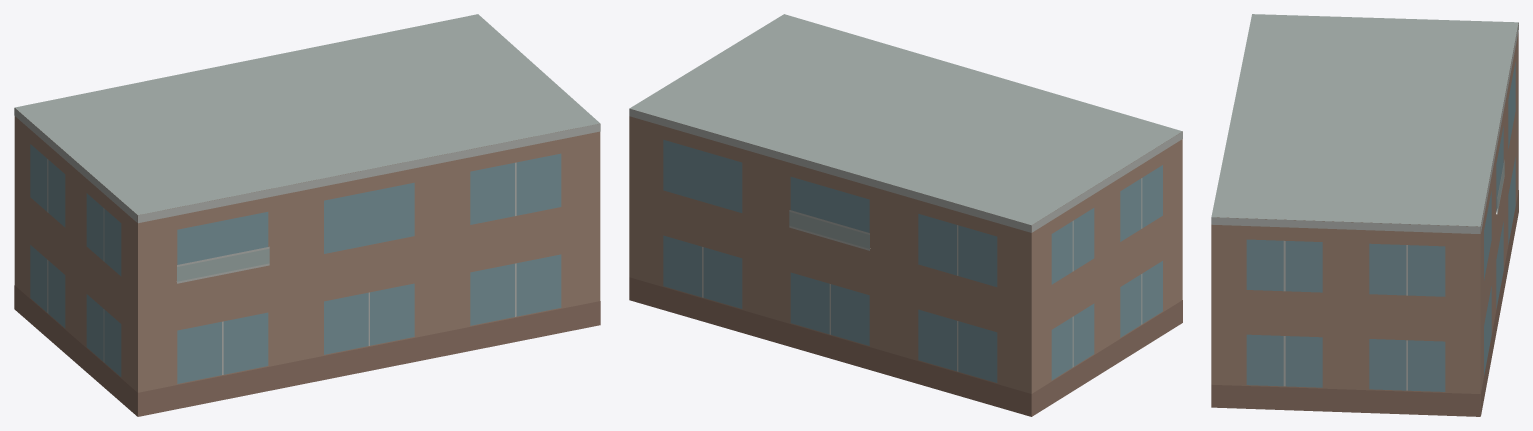
Rendered from survey-upis-32646708.glb.
The picture shows the model from 3 angles, left to right: view 1: azimuth 30°, elevation 25°; view 2: azimuth 150°, elevation 25°; view 3: azimuth 270°, elevation 25°; orthographic projection. The views are drawn at different scales.
Visible parts, largest first — view 1: survey-upis-32646708.tmp; view 2: survey-upis-32646708.tmp; view 3: survey-upis-32646708.tmp.
Part boxes in pixels (x1,y1,x2,y2): survey-upis-32646708.tmp: (14, 14, 600, 416); survey-upis-32646708.tmp: (629, 14, 1182, 416); survey-upis-32646708.tmp: (1211, 14, 1518, 416).
Size of the model in its own units: 14.62 by 6.1 by 8.94.
